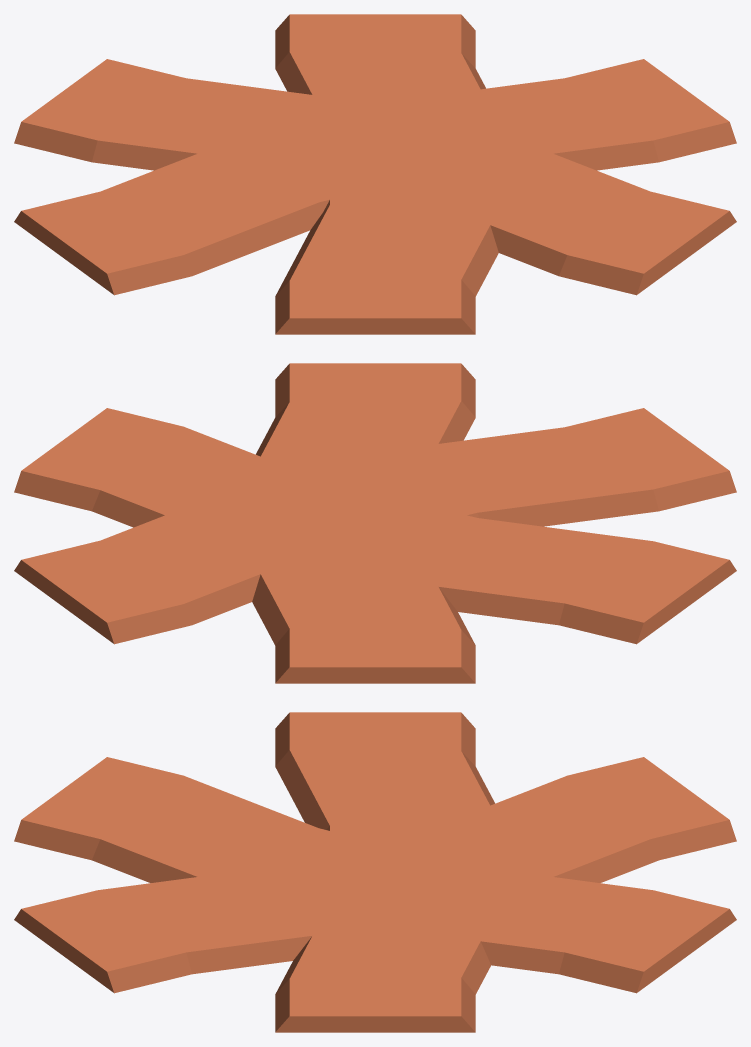
File: path_crossing.dae
3 views of the same model, one above another, from view 1: azimuth 30°, elevation 25°; view 2: azimuth 150°, elevation 25°; view 3: azimuth 270°, elevation 25° (orthographic).
Visible parts, largest first — view 1: path_crossing; view 2: path_crossing; view 3: path_crossing.
Part boxes in pixels (left/top/right/bottom): path_crossing: left=14, top=14, right=736, bottom=334; path_crossing: left=14, top=363, right=736, bottom=683; path_crossing: left=14, top=712, right=736, bottom=1032.
Bounding box in the file's own units: 1 × 0.025 × 1.01.
